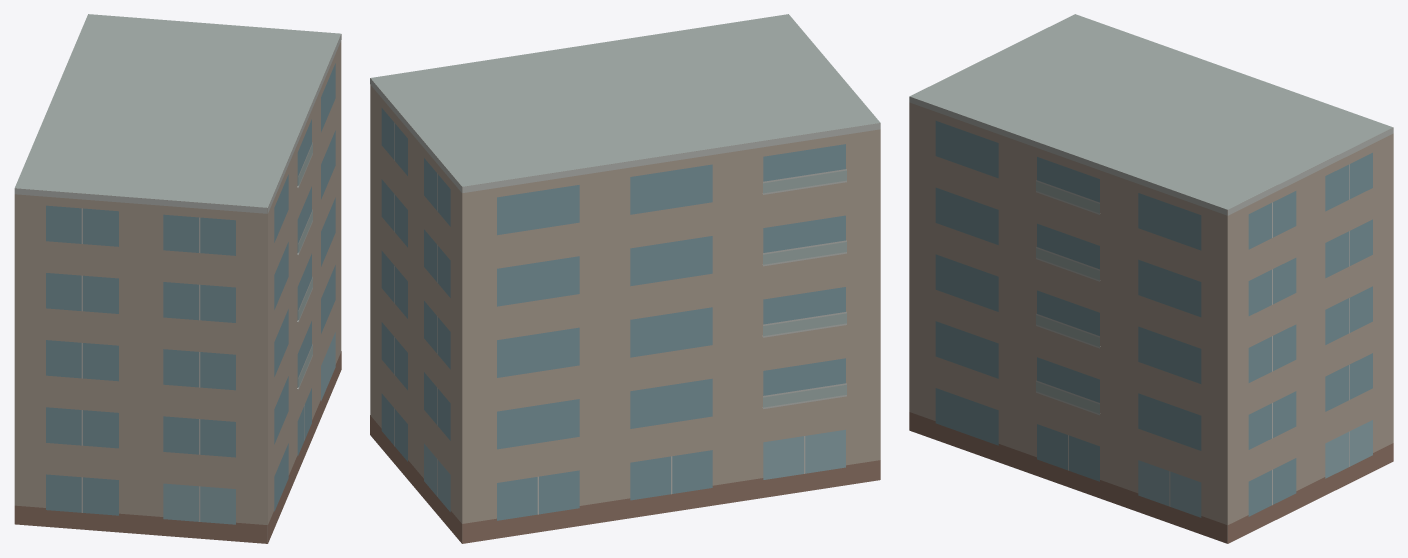
File: survey-upis-32610473.glb
The picture shows the model from 3 angles, left to right: view 1: azimuth 30°, elevation 25°; view 2: azimuth 150°, elevation 25°; view 3: azimuth 270°, elevation 25°; orthographic projection. The views are drawn at different scales.
Visible parts, largest first — view 1: survey-upis-32610473.tmp; view 2: survey-upis-32610473.tmp; view 3: survey-upis-32610473.tmp.
Part boxes in pixels (bbox=[...]): survey-upis-32610473.tmp: bbox=[14, 14, 341, 543]; survey-upis-32610473.tmp: bbox=[370, 14, 880, 543]; survey-upis-32610473.tmp: bbox=[909, 14, 1393, 543].
Bounding box in the file's own units: 17.17 × 13.65 × 17.94.
